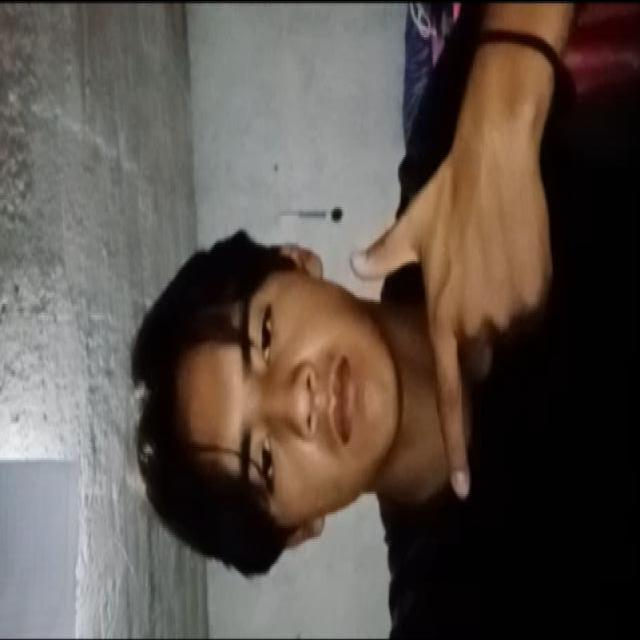G: (353, 36, 580, 524)
